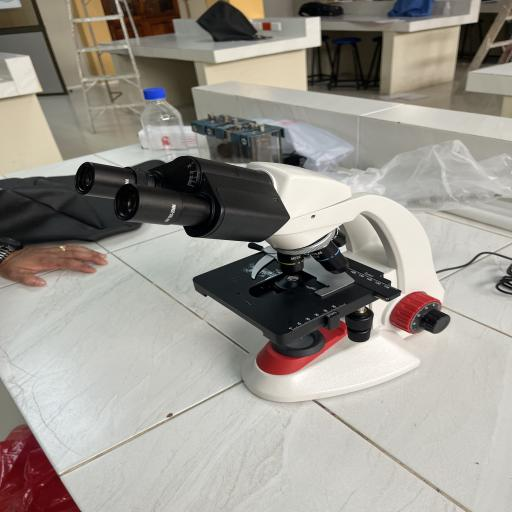Microscopio_Binocular: (67, 138, 455, 409)
